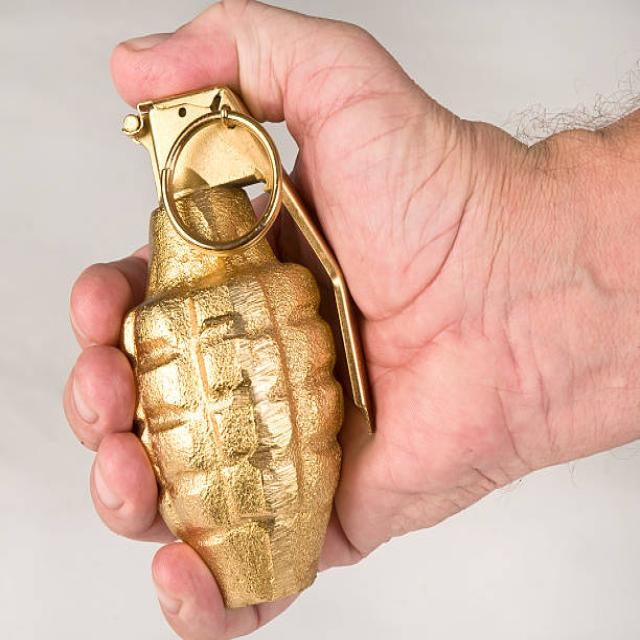grenade: (110, 85, 385, 612)
